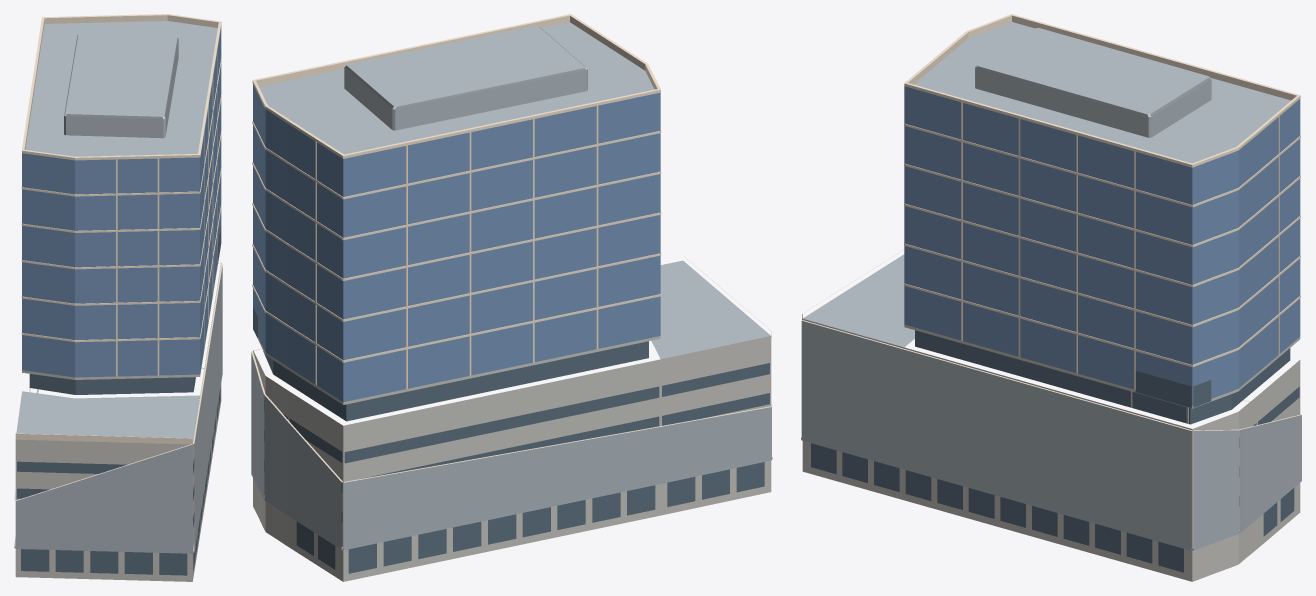
File: detail.glb
The picture shows the model from 3 angles, left to right: view 1: azimuth 30°, elevation 25°; view 2: azimuth 150°, elevation 25°; view 3: azimuth 270°, elevation 25°; orthographic projection. The views are drawn at different scales.
Visible parts, largest first — view 1: 110-east; view 2: 110-east; view 3: 110-east.
Part boxes in pixels (bbox=[...]): 110-east: bbox=[14, 14, 222, 581]; 110-east: bbox=[251, 14, 772, 581]; 110-east: bbox=[801, 14, 1301, 581].
Bounding box in the file's own units: 84.06 × 94.3 × 98.82.
